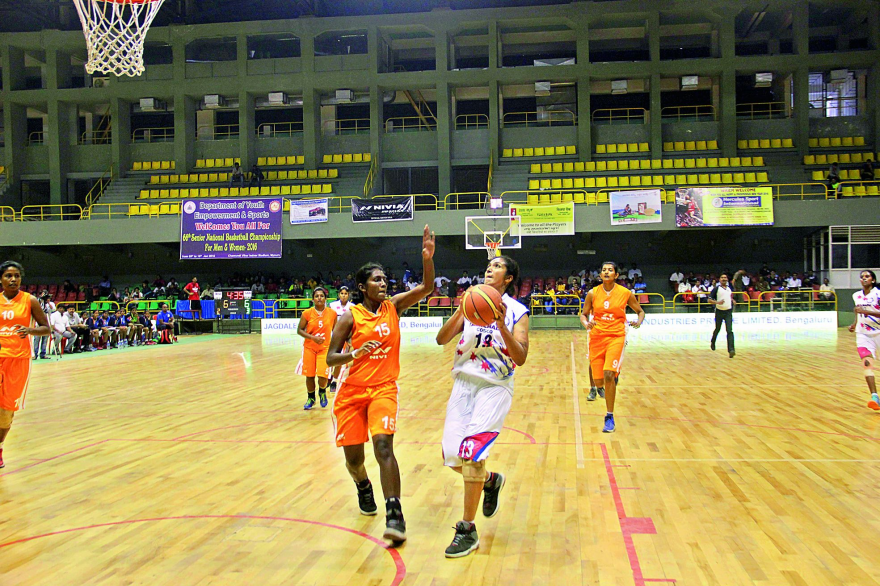ball: (460, 284, 506, 326)
basket: (484, 238, 502, 257)
player: (323, 228, 435, 543), (430, 258, 534, 561), (581, 260, 645, 430), (1, 261, 53, 468), (300, 287, 342, 408), (852, 270, 880, 413), (711, 273, 738, 360)
